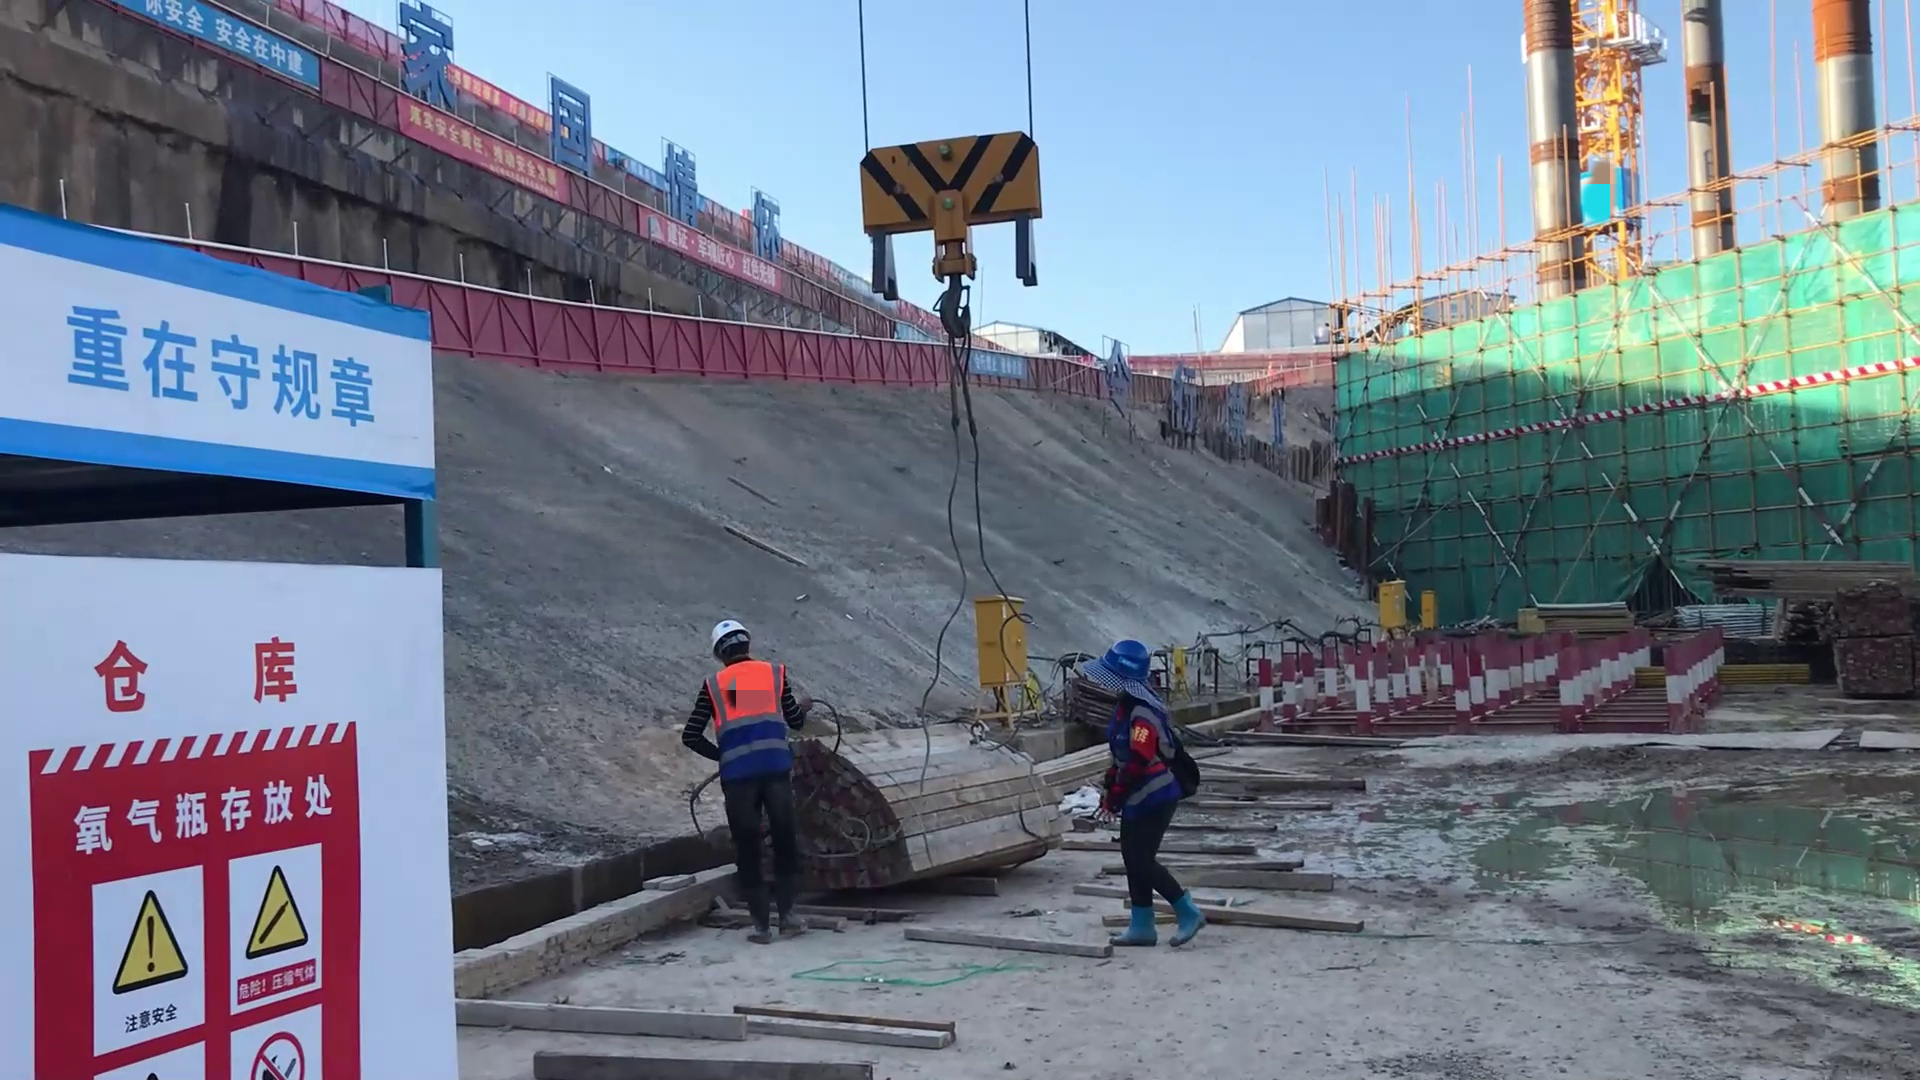ebox: (958, 581, 1040, 713), (1375, 578, 1410, 631)
fence: (421, 272, 743, 389), (740, 322, 940, 387)
helmet: (1102, 639, 1154, 685), (703, 617, 760, 657)
hook: (855, 115, 1055, 309)
person: (683, 612, 838, 938), (1062, 635, 1211, 952)
slogan: (8, 733, 345, 1080), (31, 288, 384, 426), (391, 97, 566, 204), (171, 1, 308, 94)
vest: (695, 659, 793, 719)
wood: (837, 735, 1044, 897), (1707, 550, 1915, 622)
